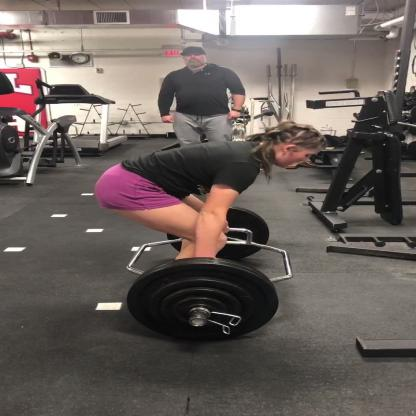Barbell: (103, 252, 296, 345)
